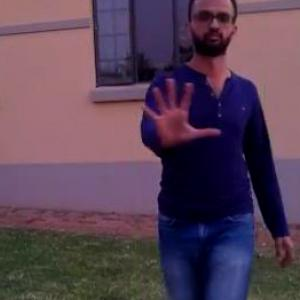follow_hand: (138, 72, 222, 151)
